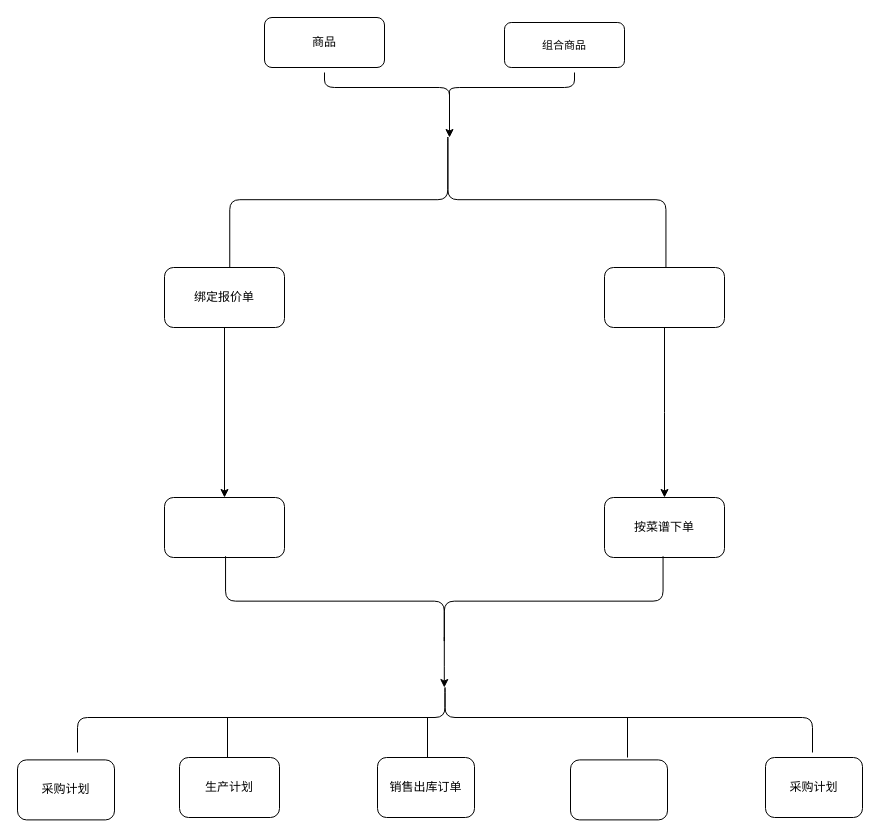
This 880x838 diagram has some shape labels left out. Each missing label, with the centre of its shape:
"周转物" belongs at pixel 619 789.
"普通创建订单" belongs at pixel 224 527.
"绑定报价单和菜谱" belongs at pixel 447 199.
"绑定菜谱" belongs at pixel 664 297.
